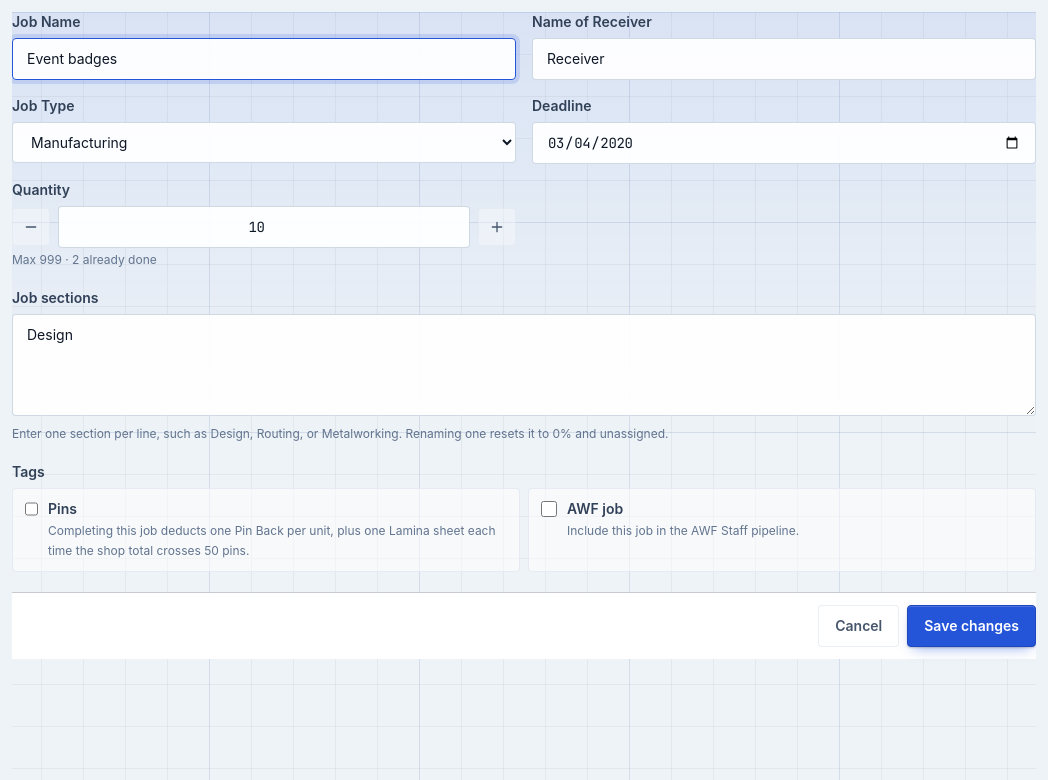
Scenario: editing an overdue job › still refuses moving the deadline to another past day
Type "2020-03-01" into the date field labelled "Deadline".
click(784, 143); type("2020-03-01")  # box x1=532 y1=122 x2=1036 y2=164
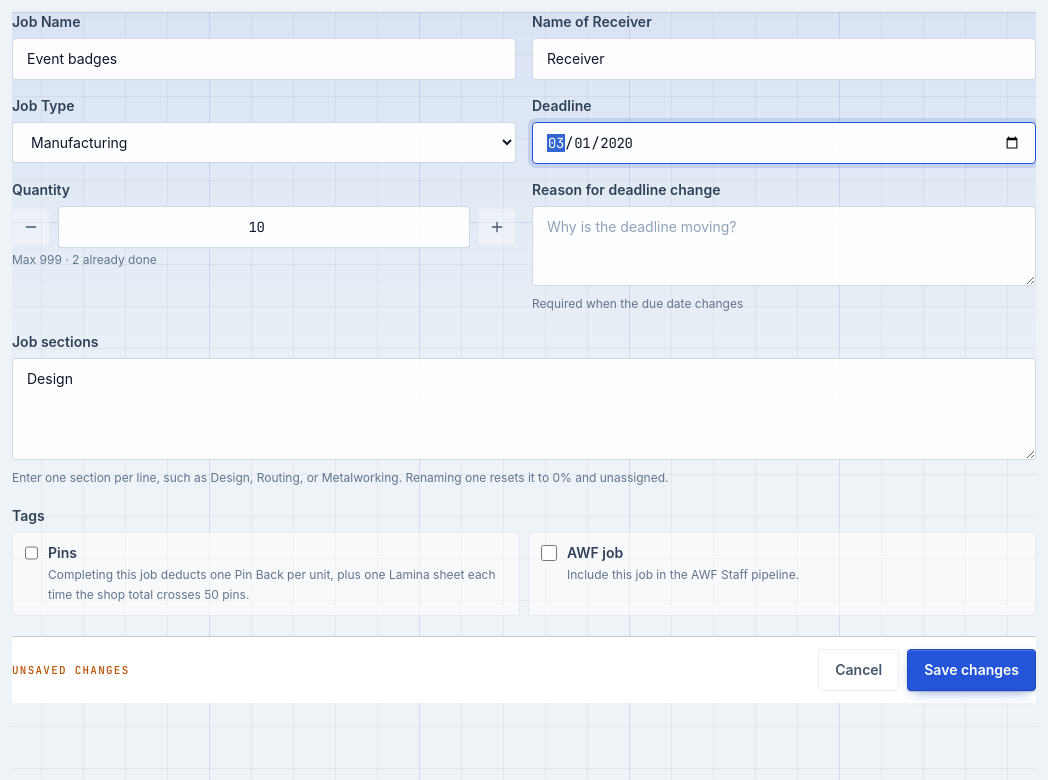
Click the button "Save changes".
click(972, 670)  # box x1=907 y1=649 x2=1036 y2=691
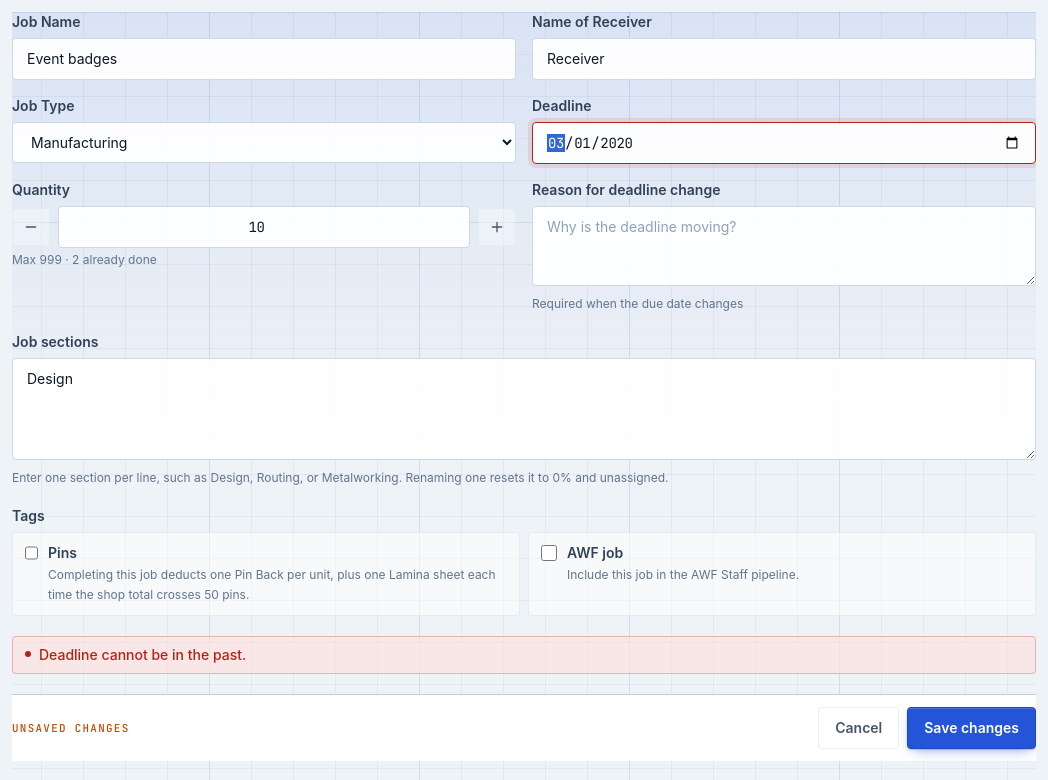
Now the message reads "Deadline cannot be in the past.", box x1=39 y1=646 x2=246 y2=663
